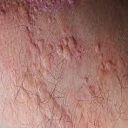Hives: (27, 38, 79, 71), (93, 44, 120, 75)
